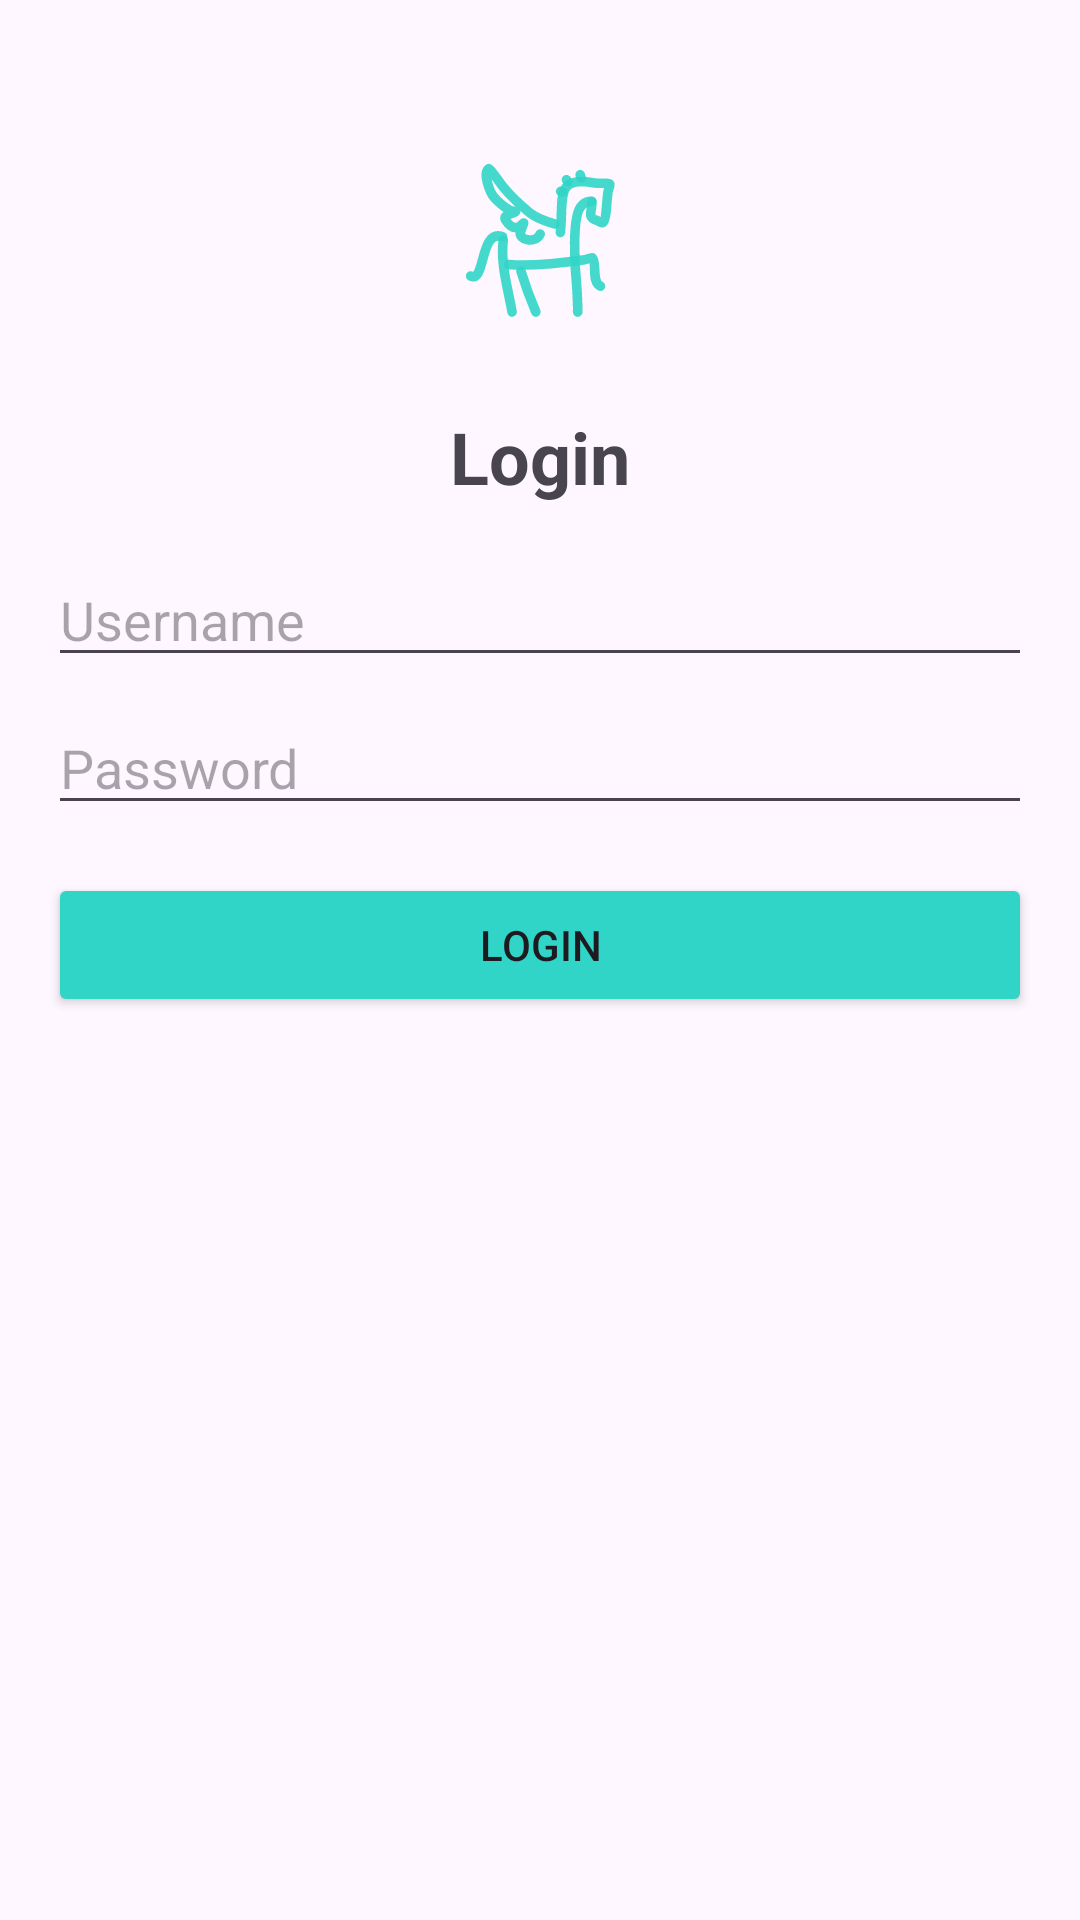

Screen size 1080 × 1920. Icon name, then its center in pixels as (x,y):
pegasus: (540,240)
